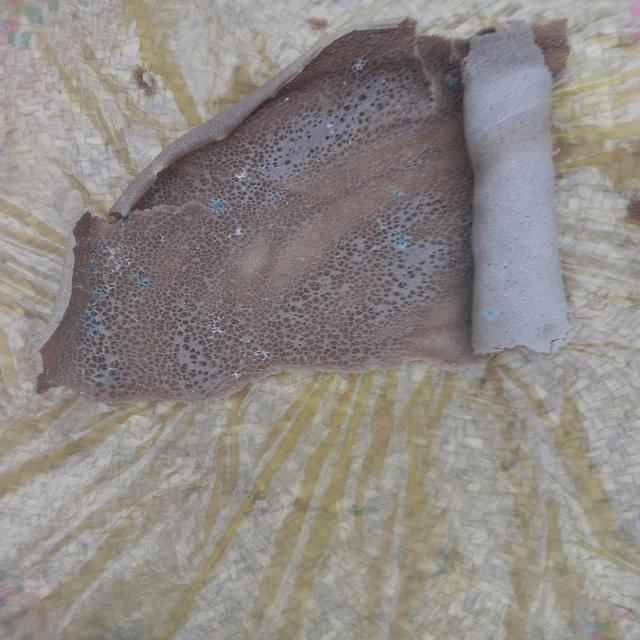injera_mold: (104, 246, 130, 274), (202, 314, 228, 341), (76, 306, 105, 327), (241, 348, 270, 368), (207, 197, 232, 216), (83, 284, 111, 300), (350, 56, 371, 74), (266, 190, 286, 207), (132, 276, 153, 292), (394, 232, 412, 249), (483, 304, 500, 321), (118, 213, 138, 227), (374, 216, 391, 232), (443, 71, 460, 87), (228, 367, 246, 382), (85, 327, 103, 341), (106, 365, 123, 379), (81, 264, 102, 275), (229, 224, 245, 238), (323, 120, 341, 132), (388, 187, 406, 198), (233, 169, 251, 180), (88, 244, 100, 256), (157, 232, 168, 245), (281, 93, 294, 104), (266, 222, 279, 230)
